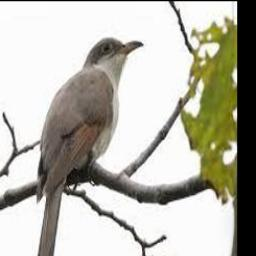Cuckoo: (33, 37, 144, 256)
